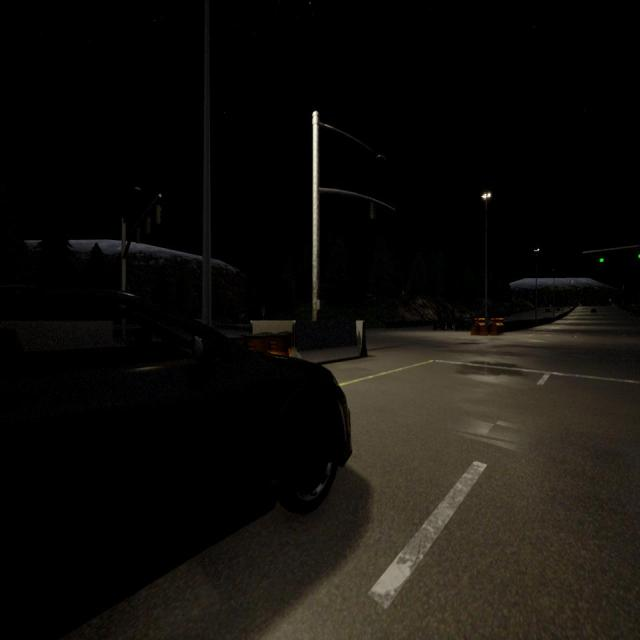Vehicle: (0, 286, 351, 636), (545, 307, 551, 312), (590, 308, 596, 312), (556, 306, 560, 310)
traffic_light: (156, 203, 162, 226), (370, 200, 375, 220), (136, 225, 141, 244), (146, 214, 150, 235), (600, 251, 604, 262), (637, 245, 640, 258)
